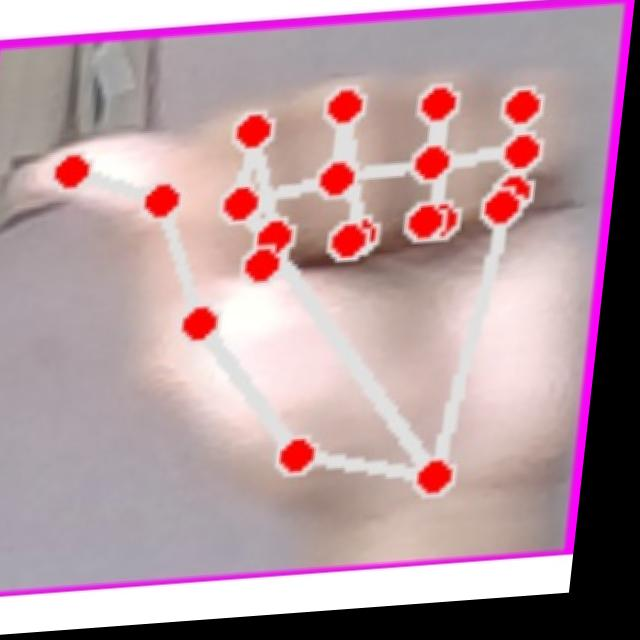A: (0, 54, 605, 568)
